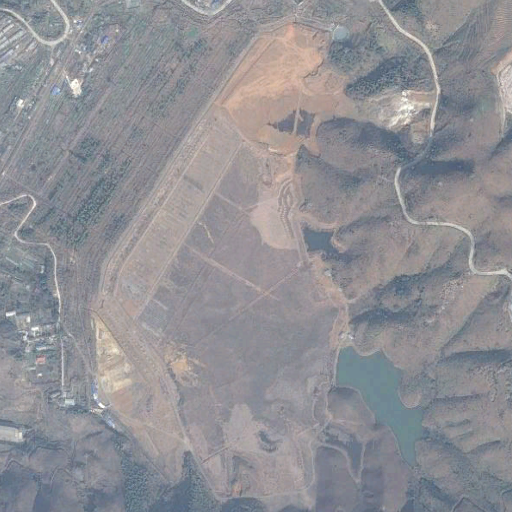tp: (90, 25, 433, 510)
